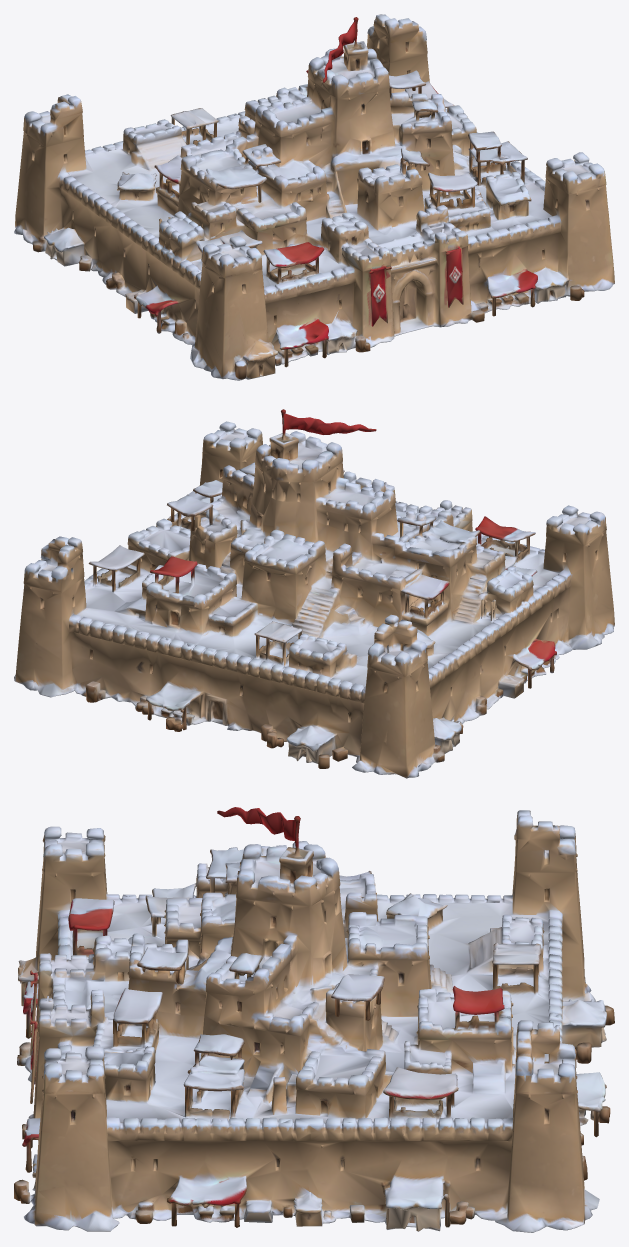
File: fortress.glb
The picture shows the model from 3 angles, top to bottom: view 1: azimuth 30°, elevation 25°; view 2: azimuth 150°, elevation 25°; view 3: azimuth 270°, elevation 25°; orthographic projection. The views are drawn at different scales.
Visible parts, largest first — view 1: Fortress; view 2: Fortress; view 3: Fortress.
Boxes of the visible parts, box(x1,y1,x2,y2) form: Fortress: box(14, 14, 614, 380); Fortress: box(14, 409, 614, 778); Fortress: box(14, 807, 614, 1232).
Bounding box in the file's own units: 1 × 0.5474 × 0.9623.
1 material, 1 textured.
